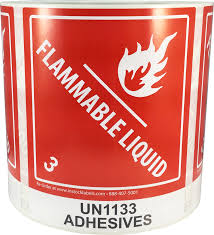FlammableLiquid: (29, 13, 182, 185)
